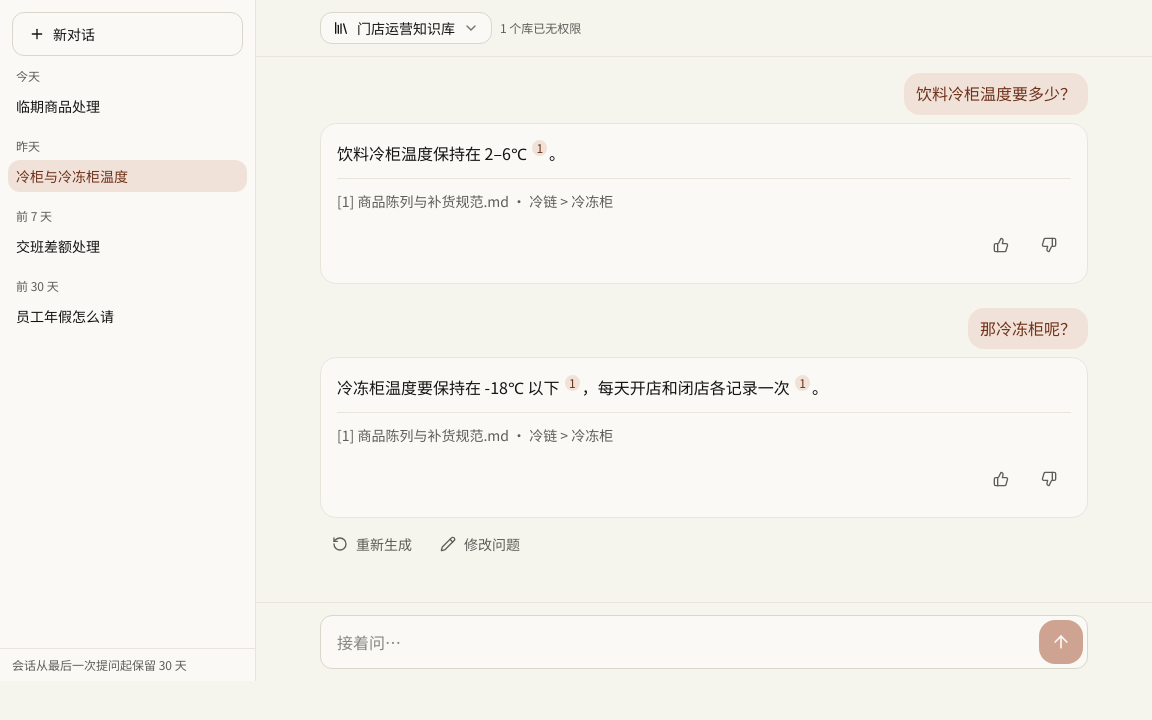
知识库选择 › 授权收回的库标“已无权限”、不能再选，引用原文显示已无权查看
Expected: the text "1 个库已无权限" is shown, [500, 20, 581, 36]
Click the button "门店运营知识库".
click(406, 28)  # box [320, 12, 492, 44]
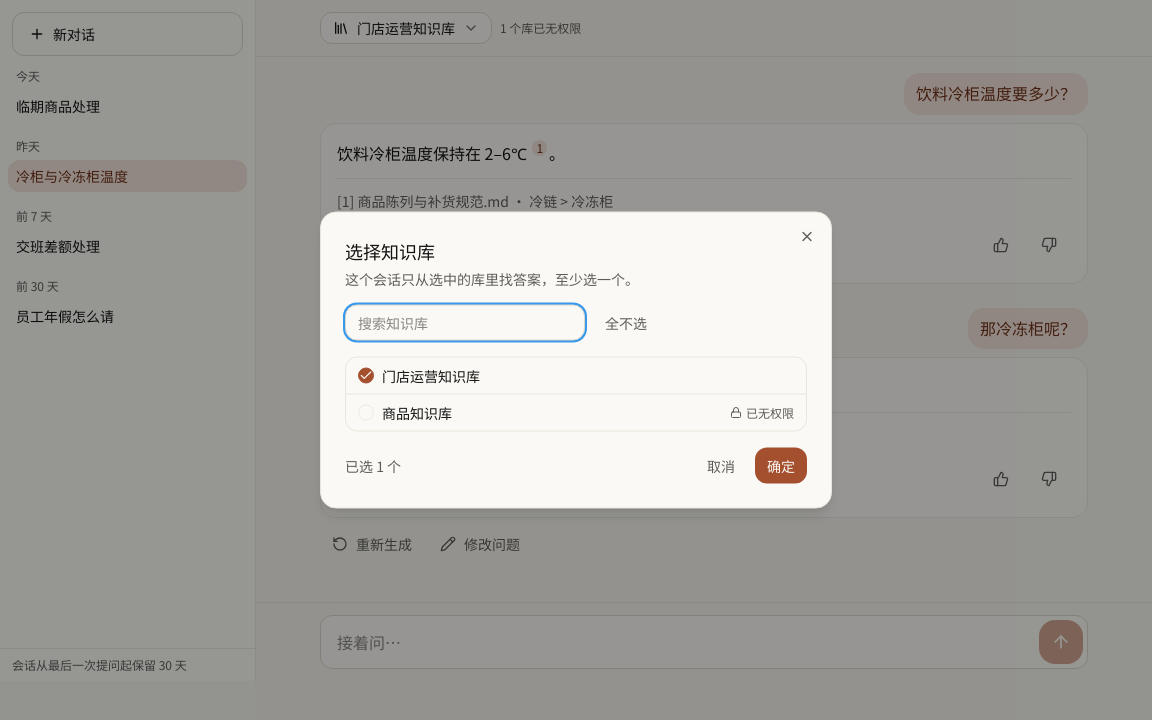
Click the button "取消".
click(721, 466)  # box [695, 448, 747, 484]
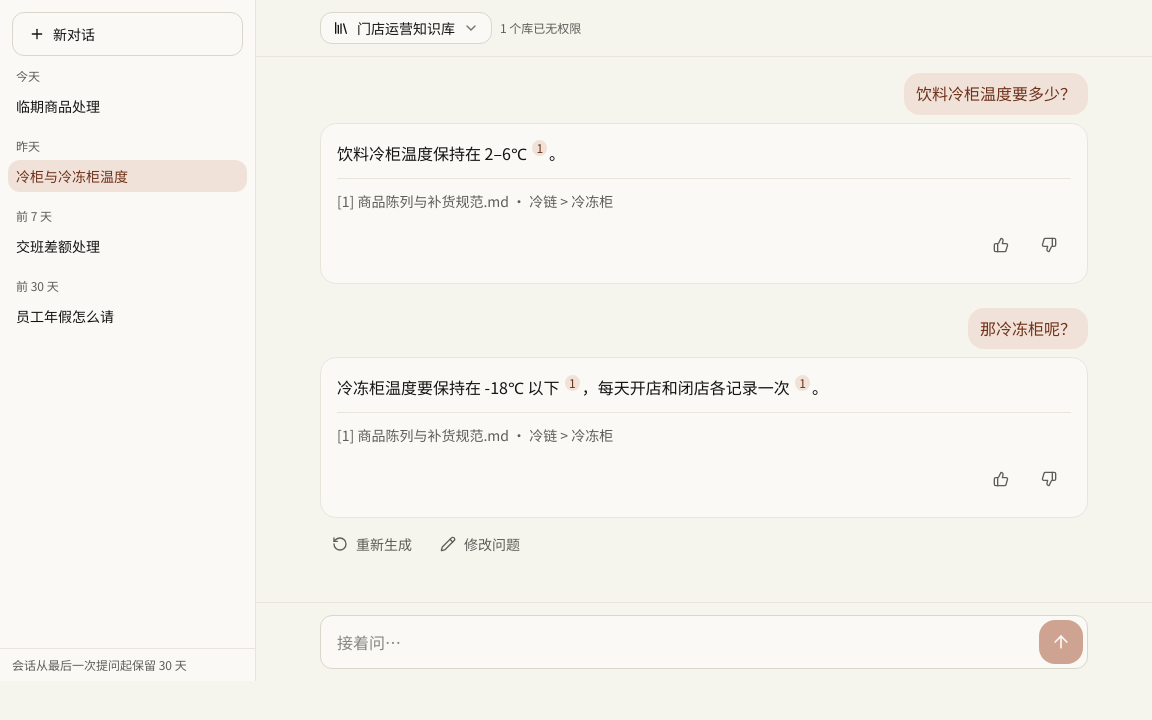
Click the button named "查看引用 1".
click(572, 383)  # box [565, 375, 580, 391]
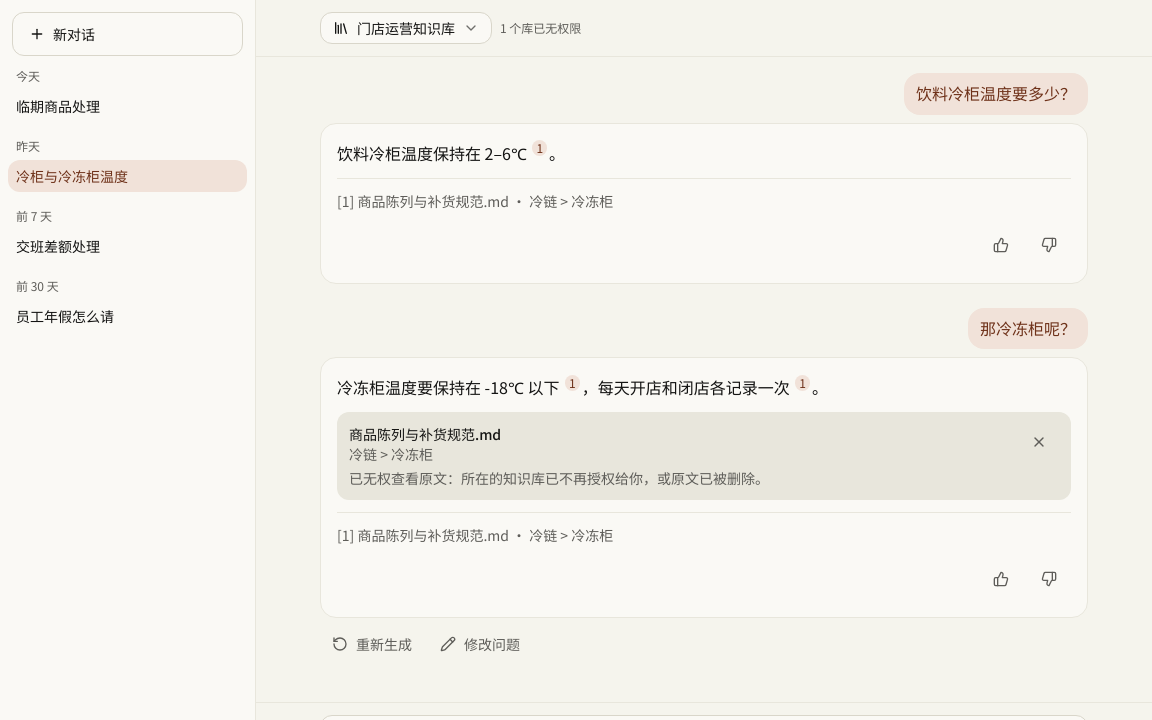
Expected: the element named "引用原文" shows "已无权查看原文", [349, 468, 769, 488]
